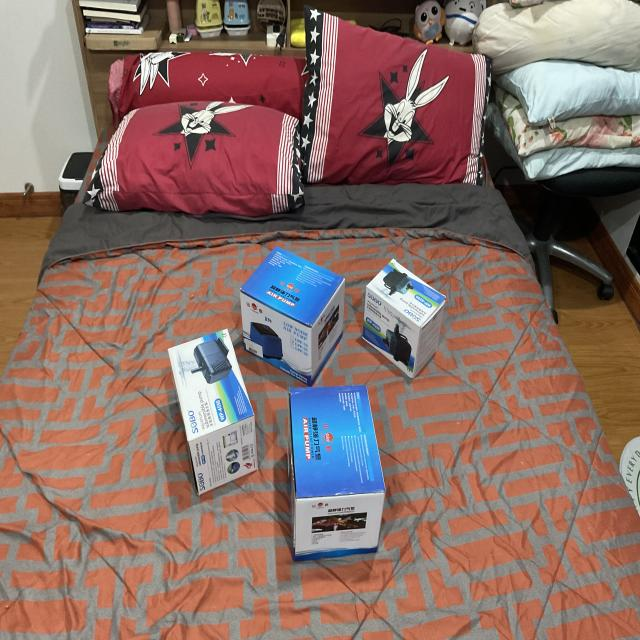SOBO_WP_4200: (160, 324, 263, 497), (356, 248, 460, 387)
YAMANO_LPP_20: (276, 371, 393, 568), (229, 238, 354, 387)
